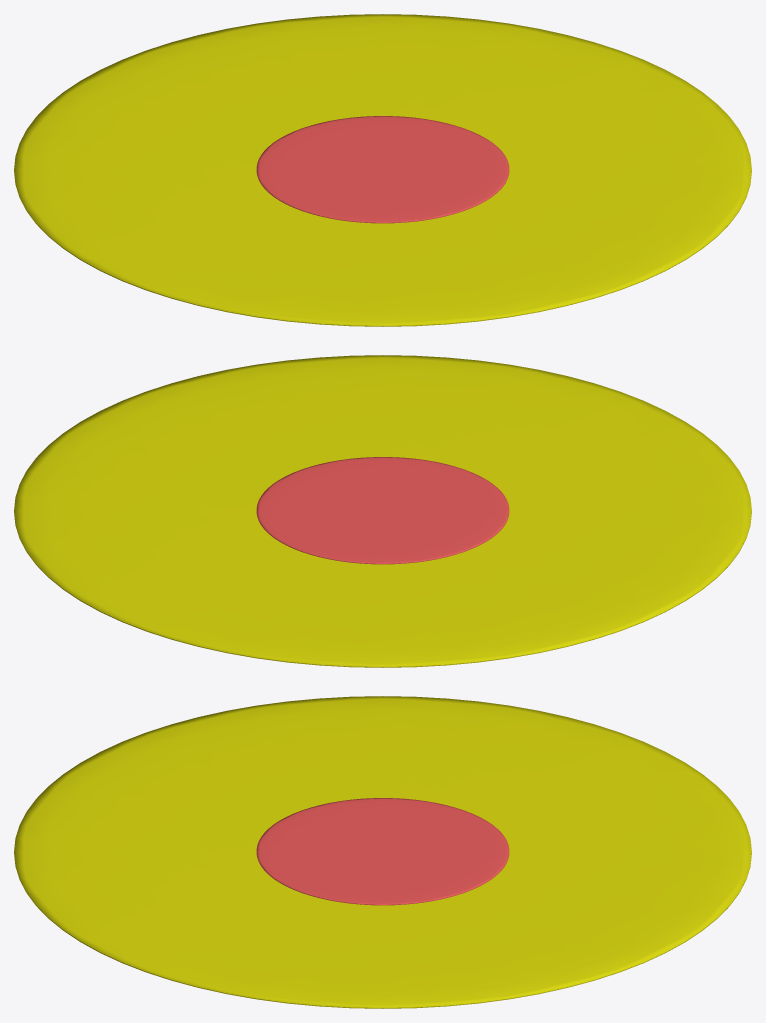
Rendered from caizhi.obj.
3 views of the same model, one above another, from view 1: azimuth 30°, elevation 25°; view 2: azimuth 150°, elevation 25°; view 3: azimuth 270°, elevation 25° (orthographic).
Parts seen in each view (by area): view 1: Cylinder001, Cylinder002; view 2: Cylinder001, Cylinder002; view 3: Cylinder001, Cylinder002.
Boxes of the visible parts, x1,y1,x2,y2 form: Cylinder001: (14, 14, 751, 326); Cylinder002: (256, 116, 509, 223); Cylinder001: (14, 355, 751, 667); Cylinder002: (256, 457, 509, 564); Cylinder001: (14, 696, 751, 1008); Cylinder002: (256, 798, 509, 905).
Bounding box in the file's own units: 25.02 × 0.0701 × 25.02.
